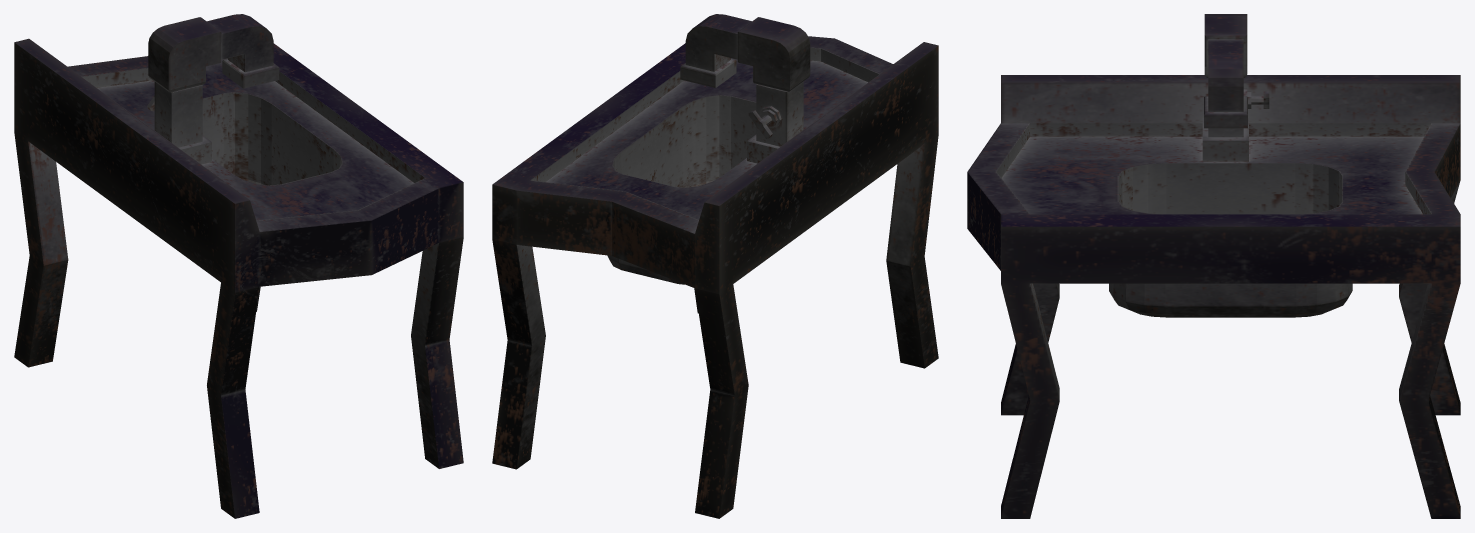
Rendered from Fregadero_Estacion_Barista.glb.
3 renders of one model, left to right at view 1: azimuth 30°, elevation 25°; view 2: azimuth 150°, elevation 25°; view 3: azimuth 270°, elevation 25°, orthographic. The views are drawn at different scales.
Parts seen in each view (by area): view 1: Cube; view 2: Cube; view 3: Cube.
Part boxes in pixels (<box>): Cube: <box>14,14,463,518</box>; Cube: <box>492,14,938,518</box>; Cube: <box>967,14,1460,518</box>.
Size of the model in its own units: 0.832 by 1.37 by 1.49.
1 material, 1 textured.
